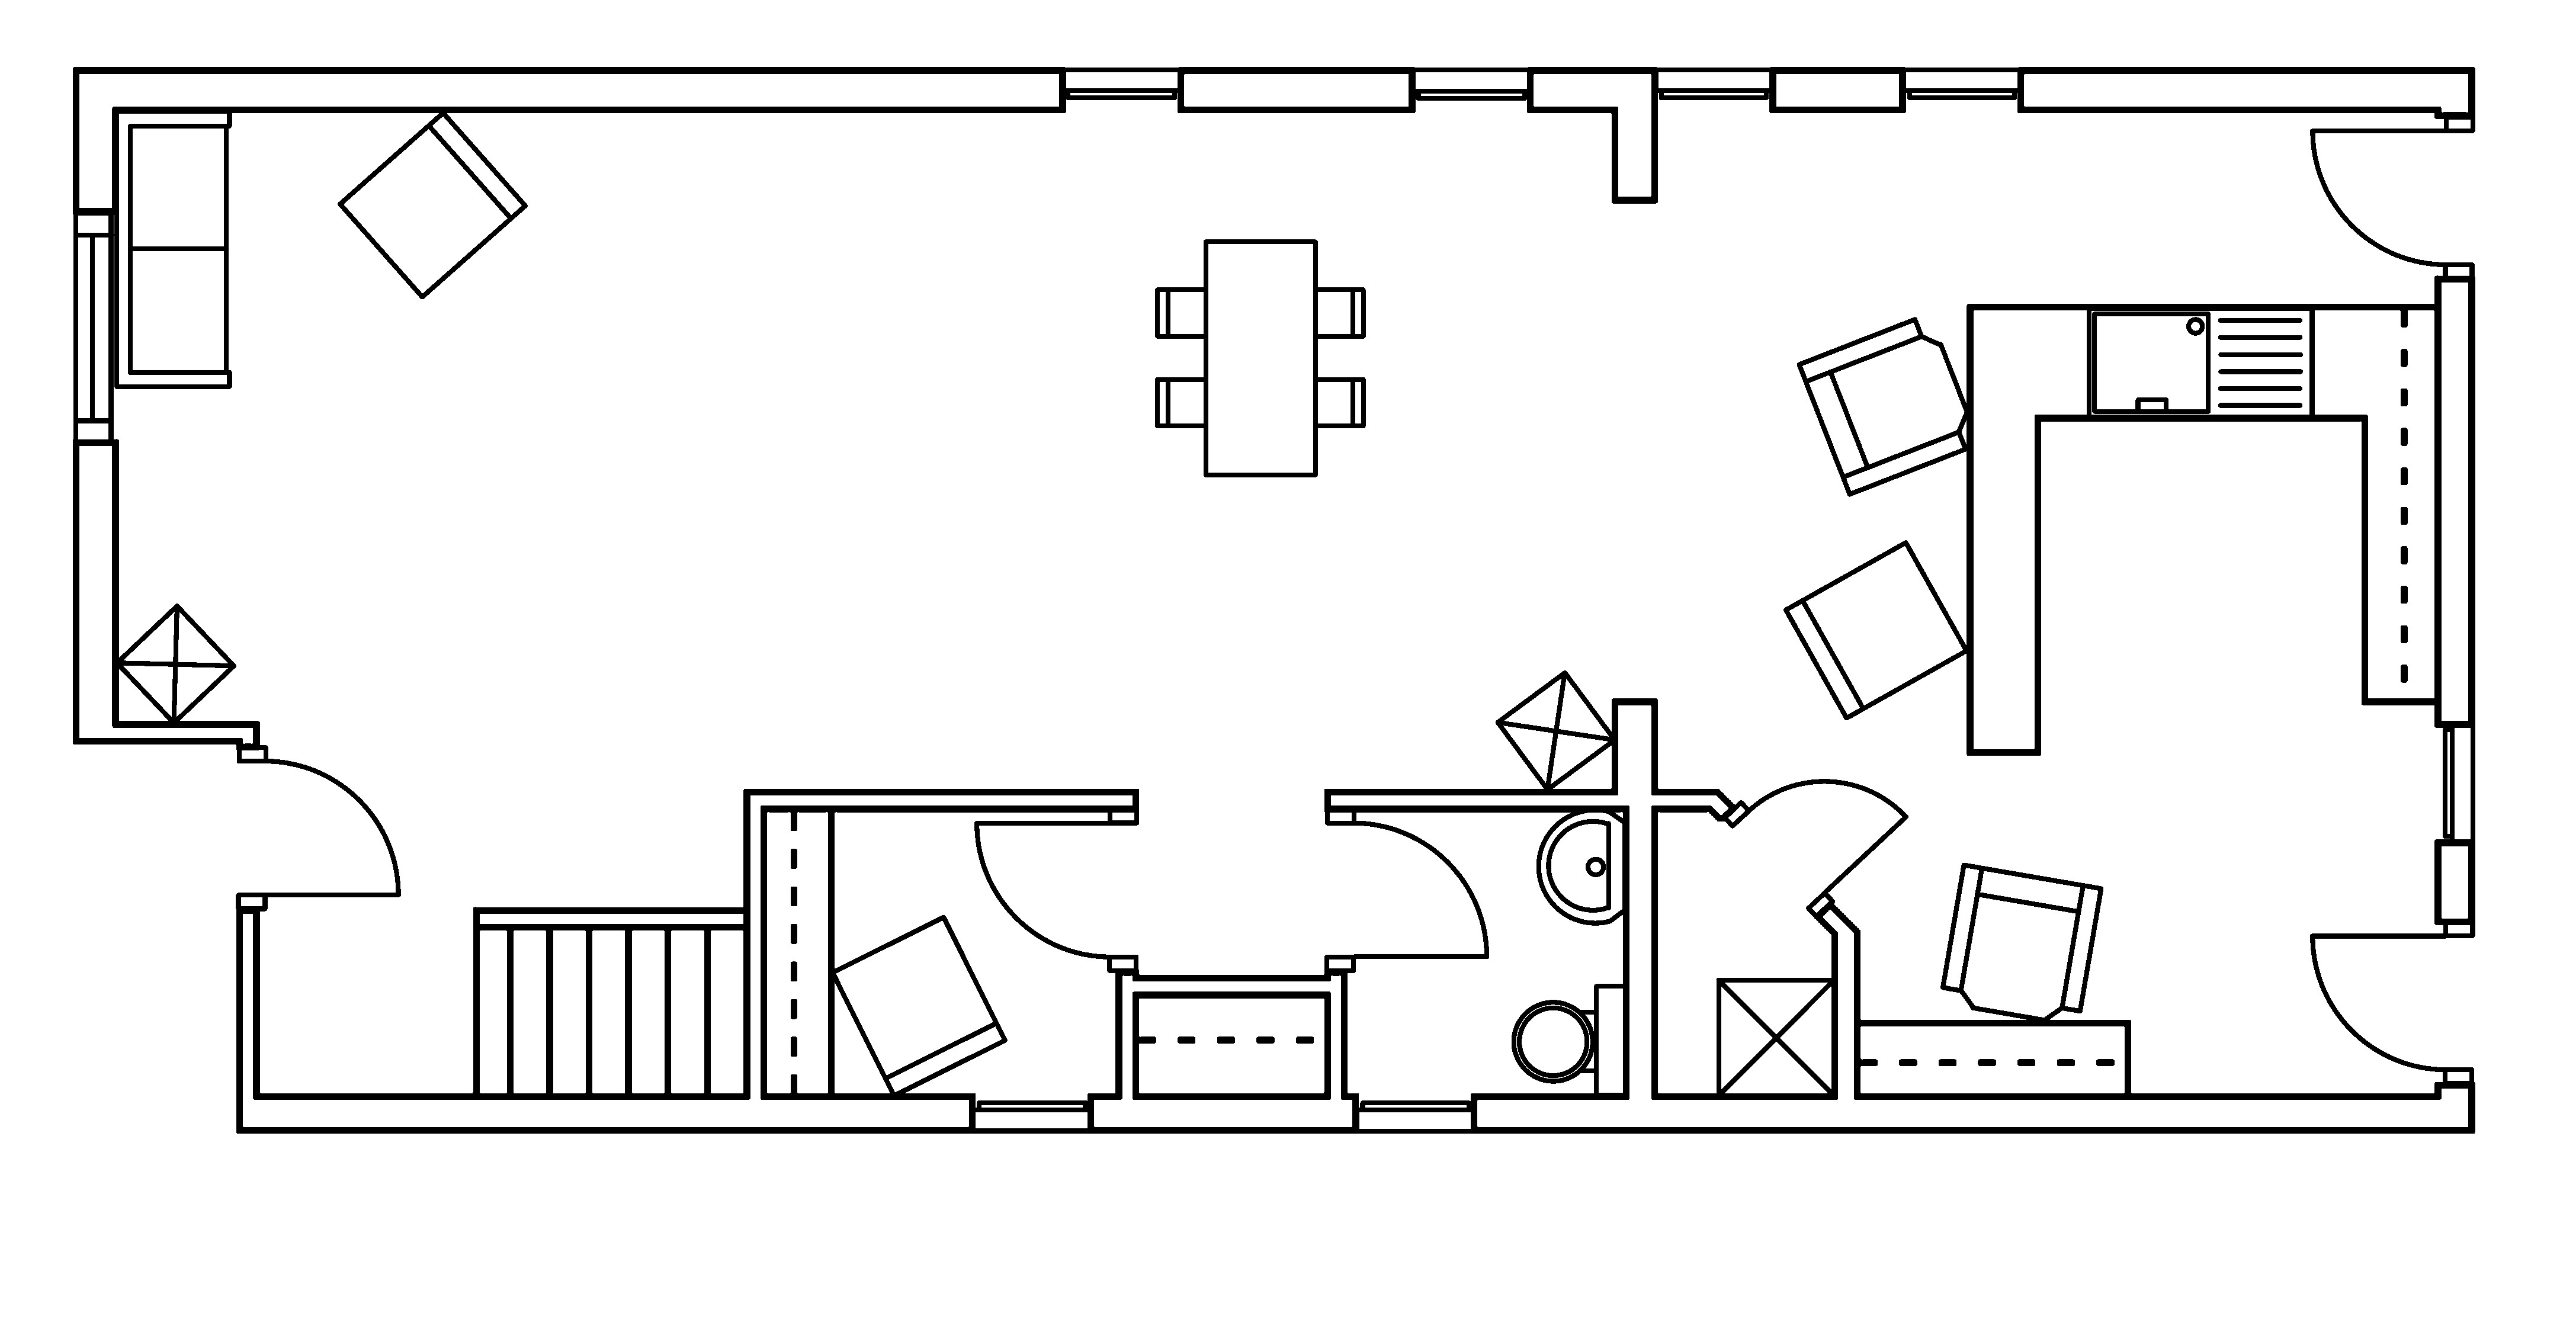armchair: (1796, 316, 1971, 496), (1939, 861, 2104, 1023)
coffee_table: (113, 602, 237, 725), (1493, 670, 1618, 792), (1715, 976, 1836, 1099)
dining_table: (1153, 239, 1365, 478)
large_sink: (1512, 983, 1628, 1097)
large_sofa: (113, 108, 232, 389)
sink: (2085, 305, 2314, 421)
small_sink: (1535, 808, 1628, 925)
small_sofa: (336, 109, 528, 299), (1782, 538, 1969, 720), (829, 914, 1007, 1099)
